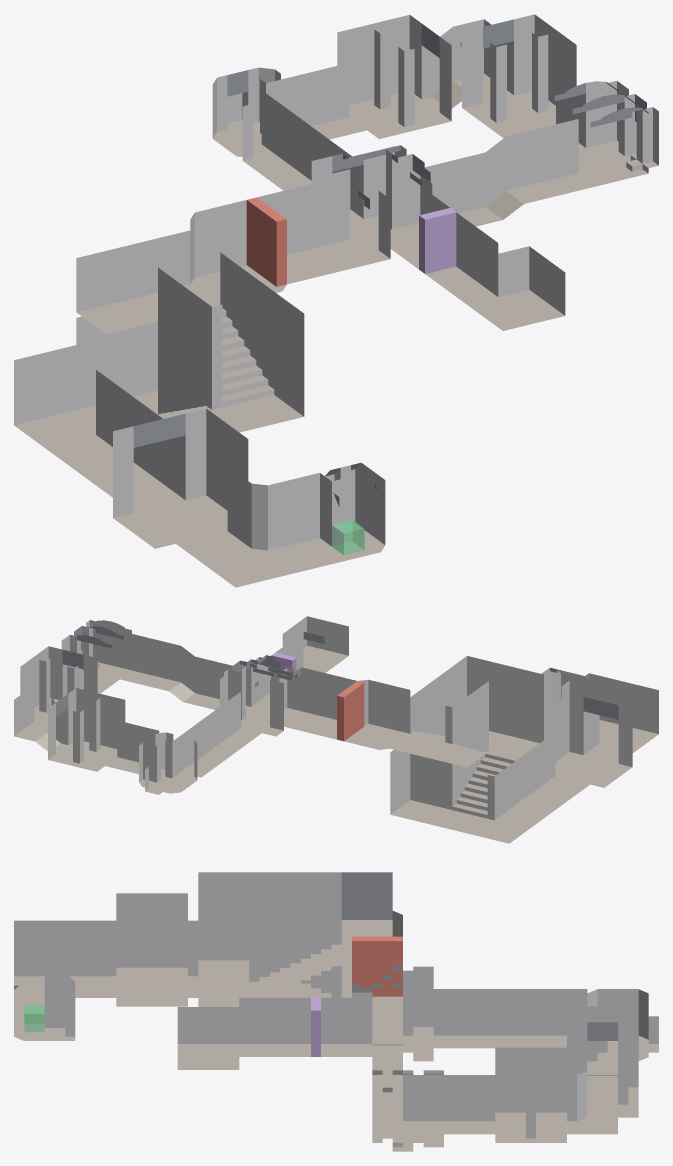
The model's file is outpost_03.glb.
The picture shows the model from 3 angles, top to bottom: view 1: azimuth 30°, elevation 25°; view 2: azimuth 150°, elevation 25°; view 3: azimuth 270°, elevation 25°; orthographic projection. The views are drawn at different scales.
Parts seen in each view (by area): view 1: corridor:4, room:5, corridor:5, corridor:2, corridor:1, entities, corridor:0, room:4, room:3, room:1/portals, room:1, room:2 (+5 smaller); view 2: room:5, corridor:4, corridor:5, corridor:1, corridor:2, corridor:0, room:3, room:1, room:4, room:1/portals, entities, room:0 (+5 smaller); view 3: room:5, corridor:5, corridor:4, corridor:0, corridor:3, room:4, entities, room:3, room:1, room:0, room:2, corridor:1 (+3 smaller).
Part boxes in pixels (x1=…): corridor:4: x1=14, y1=345, x2=331, y2=587; room:5: x1=76, y1=230, x2=304, y2=432; corridor:5: x1=287, y1=14, x2=585, y2=149; corridor:2: x1=412, y1=119, x2=596, y2=228; corridor:1: x1=190, y1=179, x2=359, y2=305; entities: x1=246, y1=197, x2=456, y2=555; corridor:0: x1=242, y1=99, x2=363, y2=221; room:4: x1=467, y1=246, x2=565, y2=330; room:3: x1=565, y1=81, x2=648, y2=185; room:1/portals: x1=329, y1=149, x2=432, y2=258; room:1: x1=311, y1=145, x2=418, y2=266; room:2: x1=311, y1=463, x2=385, y2=564; room:5: x1=390, y1=656, x2=543, y2=833; corridor:4: x1=467, y1=675, x2=658, y2=843; corridor:5: x1=14, y1=646, x2=159, y2=774; corridor:1: x1=288, y1=669, x2=410, y2=749; corridor:2: x1=120, y1=634, x2=241, y2=709; corridor:0: x1=180, y1=691, x2=261, y2=777; room:3: x1=61, y1=620, x2=131, y2=691; room:1: x1=220, y1=663, x2=308, y2=736; room:4: x1=282, y1=616, x2=348, y2=672; room:1/portals: x1=228, y1=657, x2=287, y2=730; entities: x1=271, y1=652, x2=364, y2=741; room:0: x1=139, y1=732, x2=197, y2=793; room:5: x1=198, y1=872, x2=392, y2=1006; corridor:5: x1=444, y1=1015, x2=638, y2=1142; corridor:4: x1=14, y1=893, x2=351, y2=1015; corridor:0: x1=433, y1=989, x2=587, y2=1048; corridor:3: x1=239, y1=997, x2=351, y2=1056; room:4: x1=177, y1=1007, x2=239, y2=1069; entities: x1=24, y1=936, x2=402, y2=1056; room:3: x1=372, y1=1070, x2=443, y2=1147; room:1: x1=352, y1=966, x2=433, y2=1061; room:0: x1=587, y1=989, x2=648, y2=1061; room:2: x1=14, y1=972, x2=75, y2=1040; corridor:1: x1=341, y1=910, x2=402, y2=1026.
Bounding box in the file's own units: 64 × 17 × 63.
